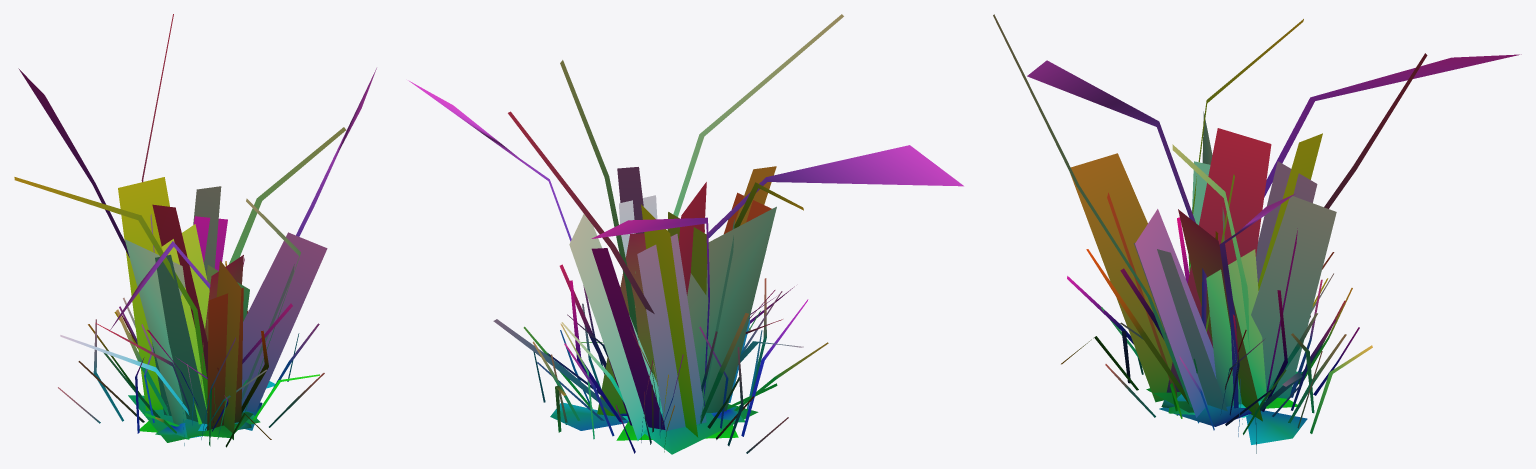
Rendered from uddmcgbia_VarK_LOD1.fbx.
3 renders of one model, left to right at view 1: azimuth 30°, elevation 25°; view 2: azimuth 150°, elevation 25°; view 3: azimuth 270°, elevation 25°, orthographic. The views are drawn at different scales.
Parts seen in each view (by area): view 1: _6734_VarK_LOD3; view 2: _6734_VarK_LOD3; view 3: _6734_VarK_LOD3.
Boxes of the visible parts, left/top/right/bottom form: _6734_VarK_LOD3: left=14, top=14, right=376, bottom=447; _6734_VarK_LOD3: left=408, top=14, right=963, bottom=454; _6734_VarK_LOD3: left=993, top=14, right=1521, bottom=453.
Bounding box in the file's own units: 26.44 × 21.52 × 27.09.
